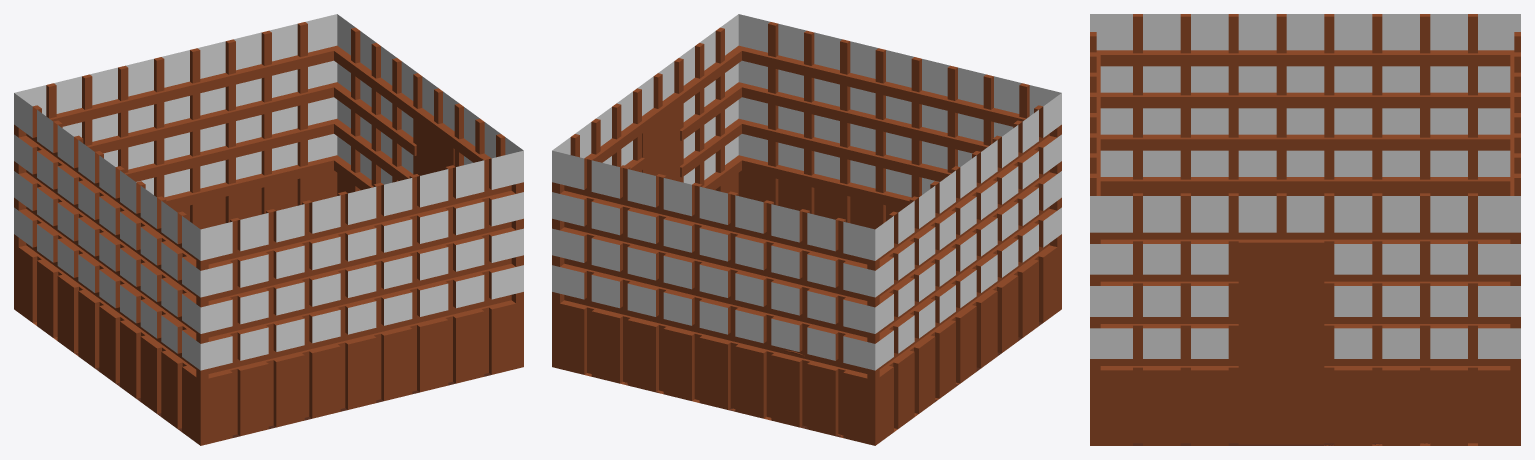
Rendered from Environment.fbx.
3 renders of one model, left to right at view 1: azimuth 30°, elevation 25°; view 2: azimuth 150°, elevation 25°; view 3: azimuth 270°, elevation 25°, orthographic. The views are drawn at different scales.
Visible parts, largest first — view 1: wall00, wall01, wall02, wall 03, door; view 2: wall01, wall00, wall02, wall 03, door; view 3: wall 03, wall02, door, wall00, wall01.
Part boxes in pixels (box(x1,y1,x2,y2)): wall00: box(196, 150, 523, 445); wall01: box(14, 14, 338, 246); wall02: box(14, 93, 208, 445); wall 03: box(330, 14, 523, 303); door: box(416, 121, 454, 175); wall01: box(552, 150, 879, 445); wall00: box(734, 14, 1061, 246); wall02: box(867, 93, 1061, 445); wall 03: box(552, 14, 744, 303); door: box(642, 106, 679, 181); wall 03: box(1090, 193, 1520, 445); wall02: box(1090, 14, 1520, 195); door: box(1238, 240, 1324, 444); wall00: box(1090, 32, 1100, 370); wall01: box(1510, 32, 1520, 370).
Bounding box in the file's own units: 75601 × 48398 × 75601.
